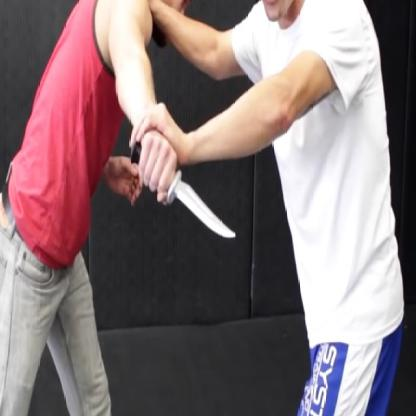knife: (123, 130, 242, 250)
